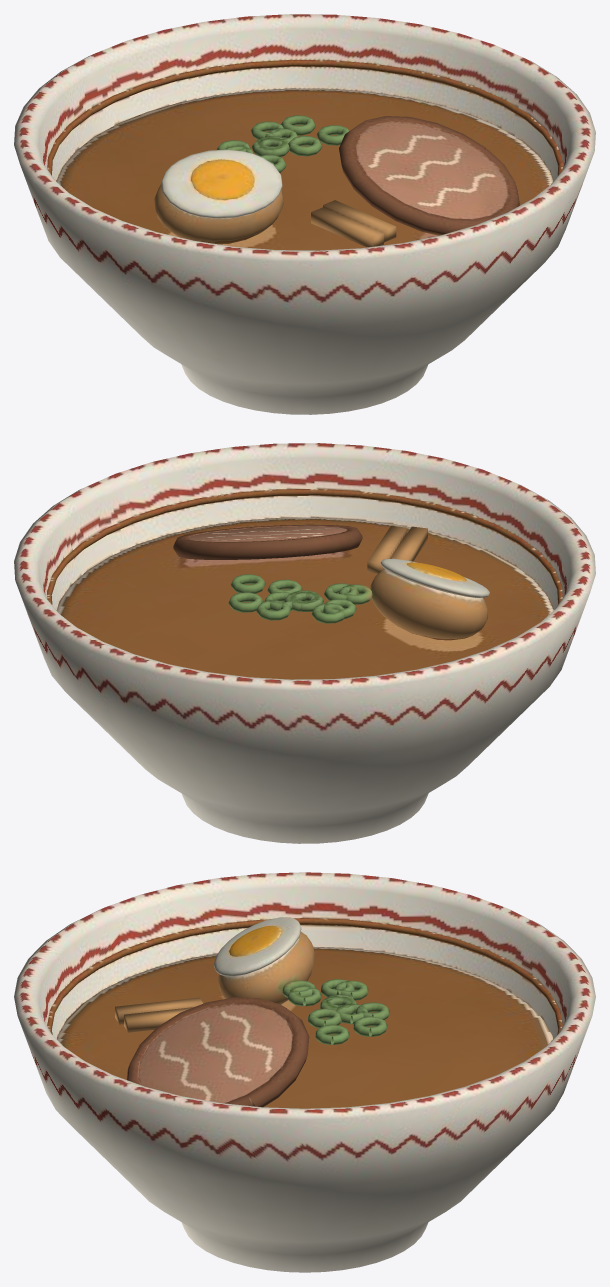
File: ramen_shoyu_nn1.glb
3 renders of one model, top to bottom at view 1: azimuth 30°, elevation 25°; view 2: azimuth 150°, elevation 25°; view 3: azimuth 270°, elevation 25°, orthographic.
Parts seen in each view (by area): view 1: prop_ramen_shoyu_nn1_felt; view 2: prop_ramen_shoyu_nn1_felt; view 3: prop_ramen_shoyu_nn1_felt.
Boxes of the visible parts, left/top/right/bottom form: prop_ramen_shoyu_nn1_felt: left=14, top=14, right=595, bottom=414; prop_ramen_shoyu_nn1_felt: left=14, top=443, right=595, bottom=843; prop_ramen_shoyu_nn1_felt: left=14, top=872, right=595, bottom=1272.
Bounding box in the file's own units: 0.3 × 0.1362 × 0.3.
Materials: 1 (1 with a texture image).
